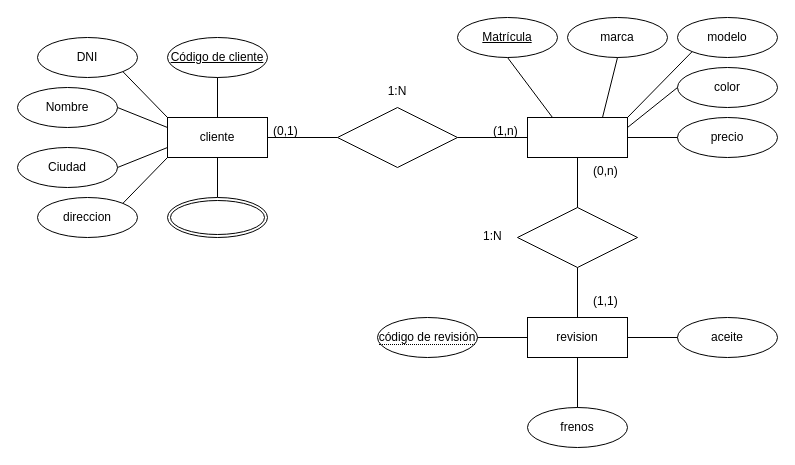
Some shapes in this 795 by 465 pixel diagram are drawn without their labels. Each missing label, with the centre of its shape:
coche: the point at 577,137
compra: the point at 397,137
pasar: the point at 577,237
telefono: the point at 217,217
